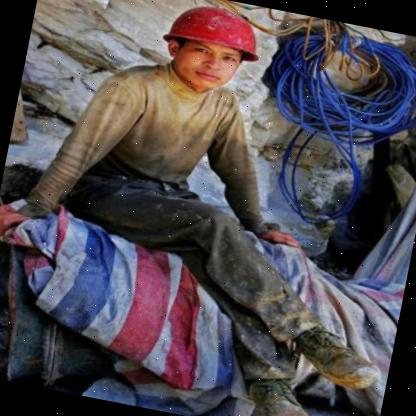bota: (279, 310, 391, 394), (233, 361, 324, 416)
capacete: (153, 0, 266, 97)
